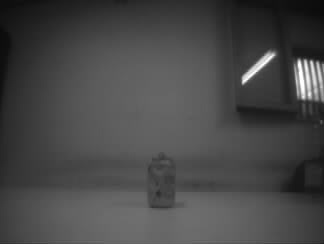Tin can: (145, 152, 176, 209)
